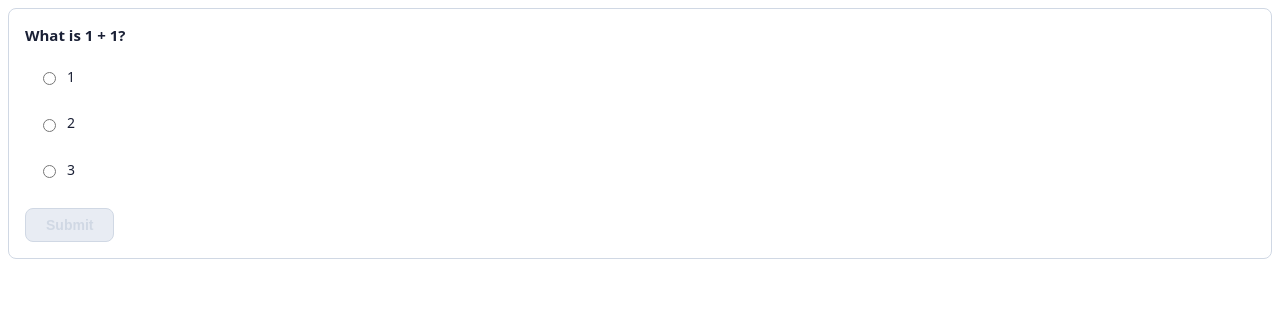
Scenario: Quiz › submitting shows incorrect feedback (red)
Click the radio button labelled "1" at (50, 79), box [43, 72, 56, 85]
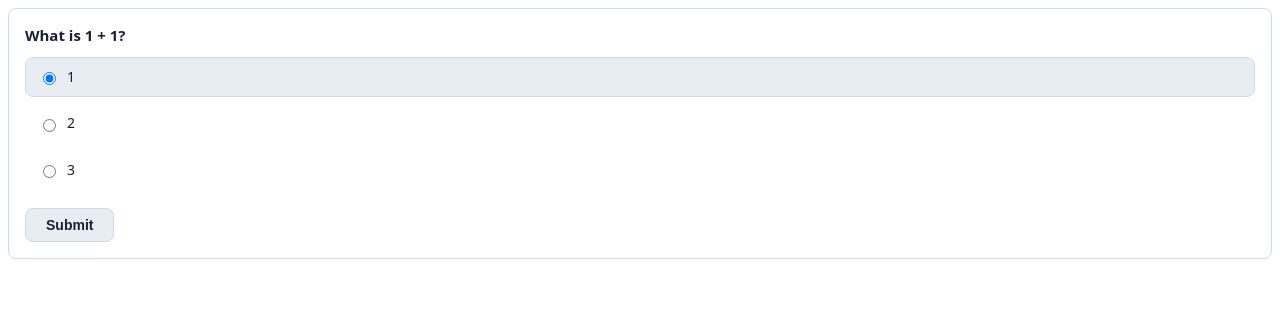
Click the button "Submit" at (70, 225), box [25, 208, 114, 242]
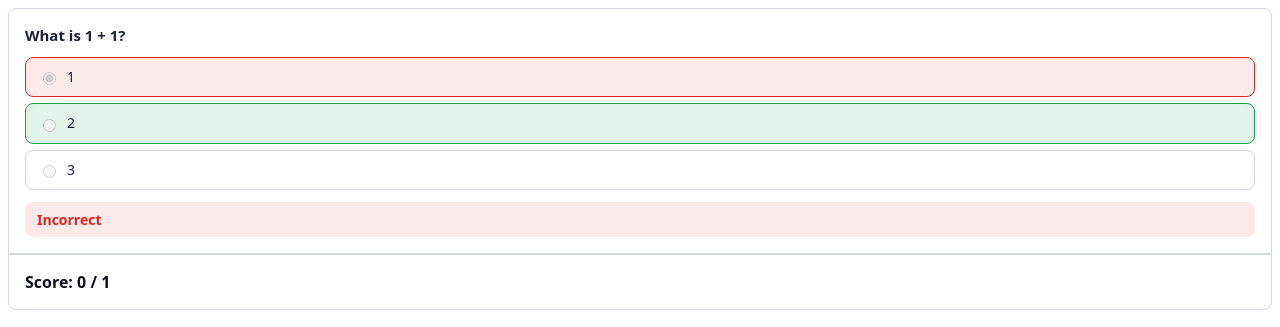
expect the text "Incorrect" is shown: met, box [25, 202, 1255, 237]
